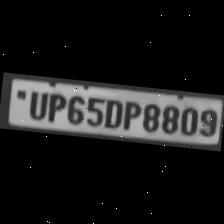0: (176, 104, 198, 136)
5: (82, 94, 106, 128)
6: (62, 92, 86, 126)
8: (138, 100, 161, 134), (158, 102, 181, 136)
9: (196, 105, 219, 138)
D: (102, 96, 122, 130)
P: (119, 97, 141, 132), (44, 90, 66, 124)
U: (24, 88, 48, 120)
